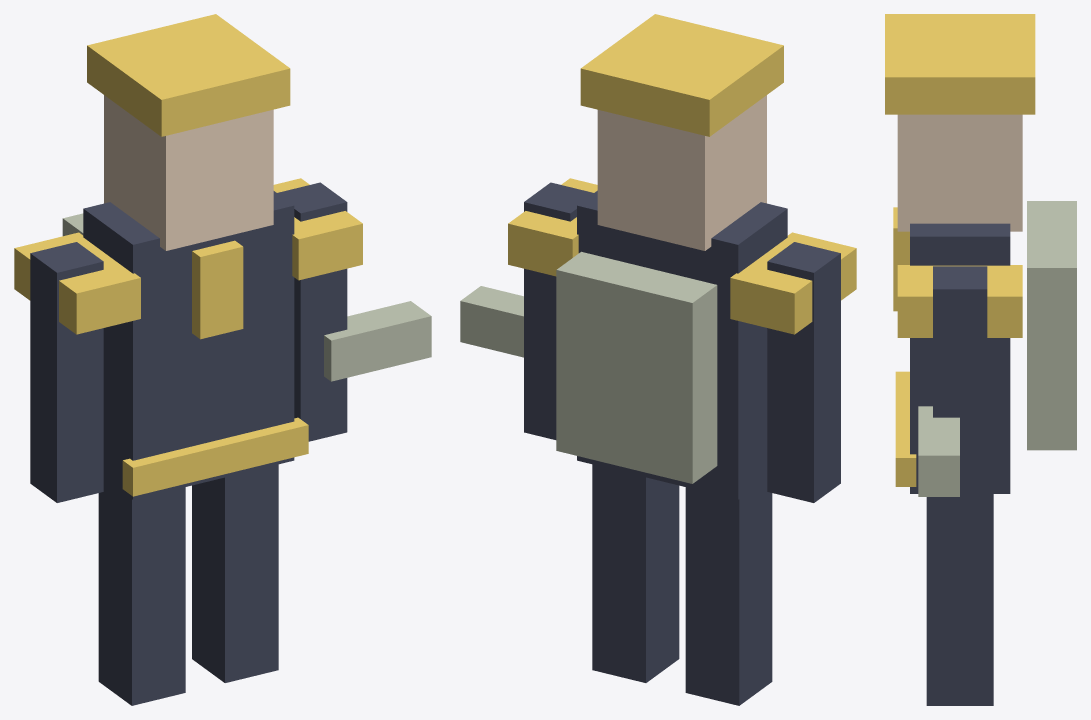
Rendered from 11_pax_mossguard_fixer_from_flash.glb.
The picture shows the model from 3 angles, left to right: view 1: azimuth 30°, elevation 25°; view 2: azimuth 150°, elevation 25°; view 3: azimuth 270°, elevation 25°; orthographic projection.
Visible parts, largest first — view 1: Pax Mossguard, Fixer from Flash; view 2: Pax Mossguard, Fixer from Flash; view 3: Pax Mossguard, Fixer from Flash.
Part boxes in pixels (x1=…): Pax Mossguard, Fixer from Flash: x1=14, y1=14, x2=431, y2=705; Pax Mossguard, Fixer from Flash: x1=460, y1=14, x2=856, y2=705; Pax Mossguard, Fixer from Flash: x1=885, y1=14, x2=1076, y2=705.
Size of the model in its own units: 1.04 by 1.68 by 0.4667.
